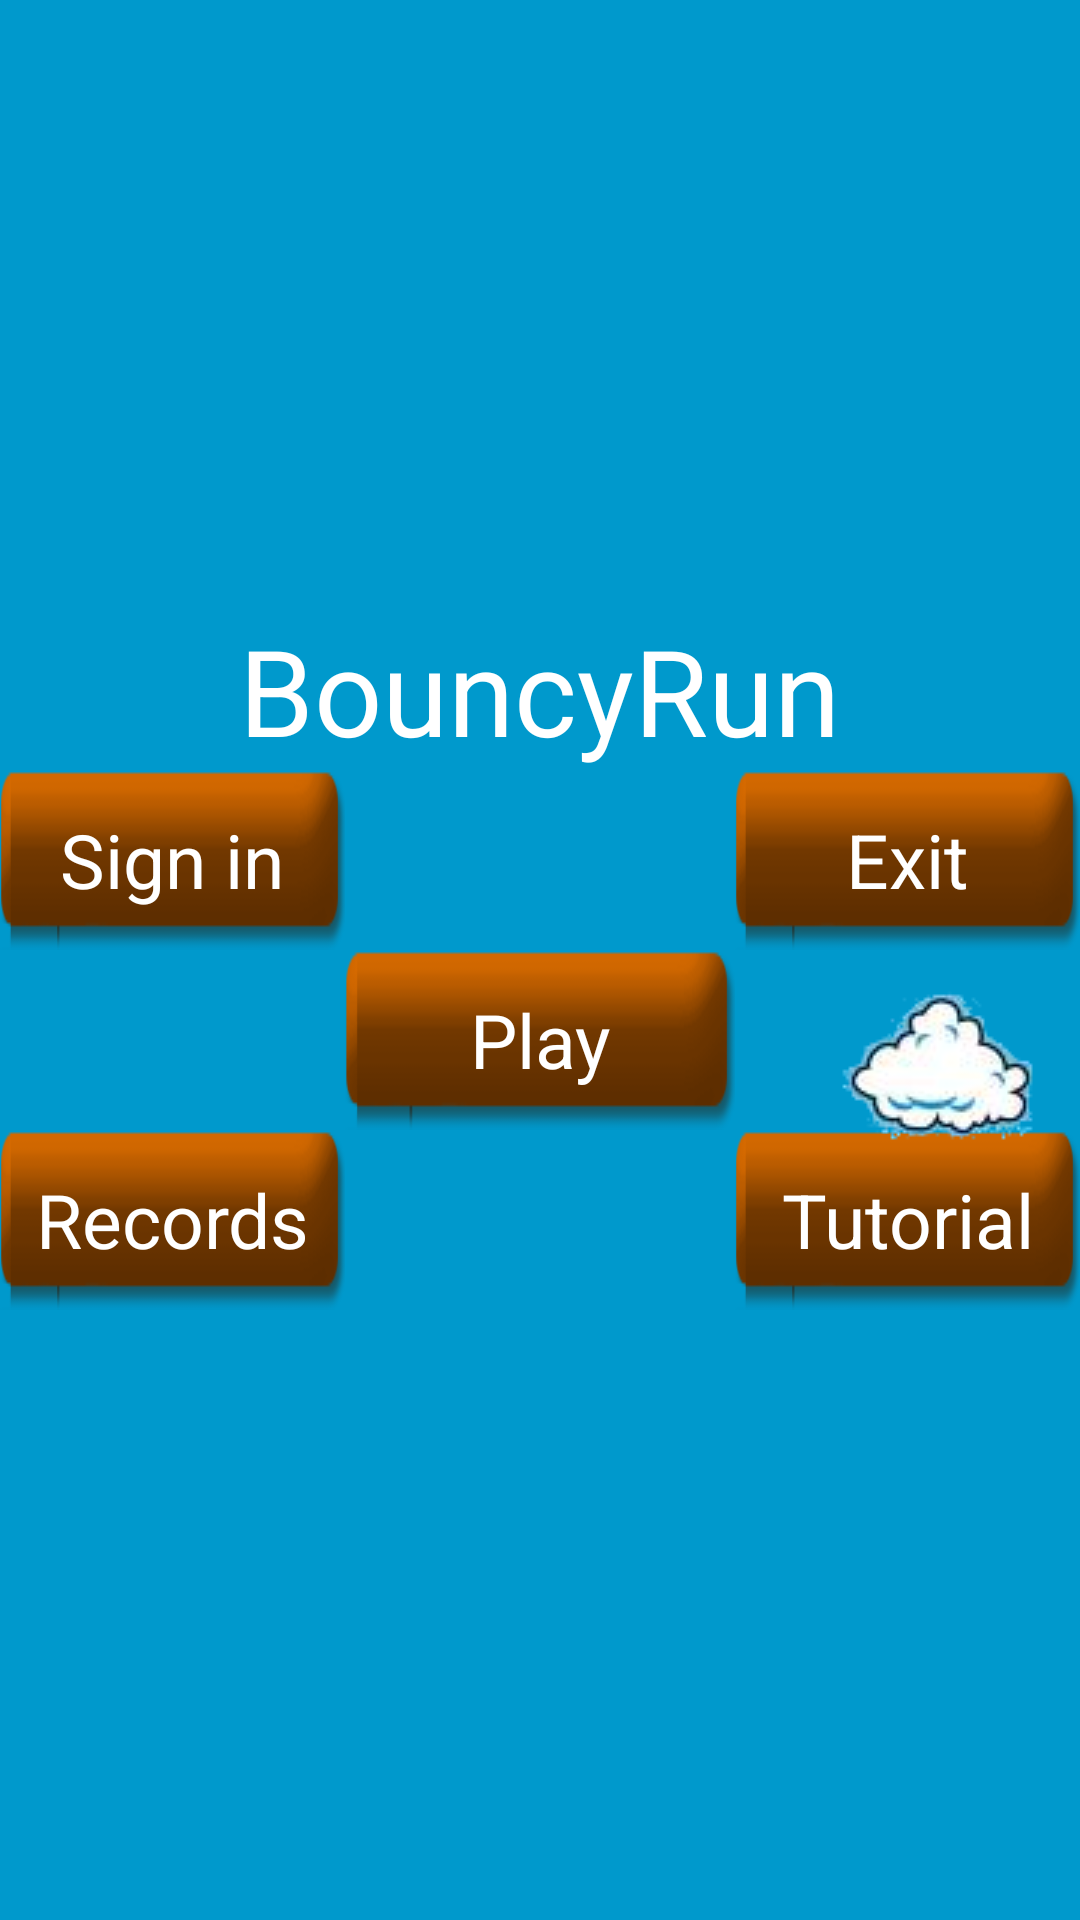

Screen size 1080px×1920px. Icon name, then its center in pixels as [x,y]:
cloud: [940,1064]
